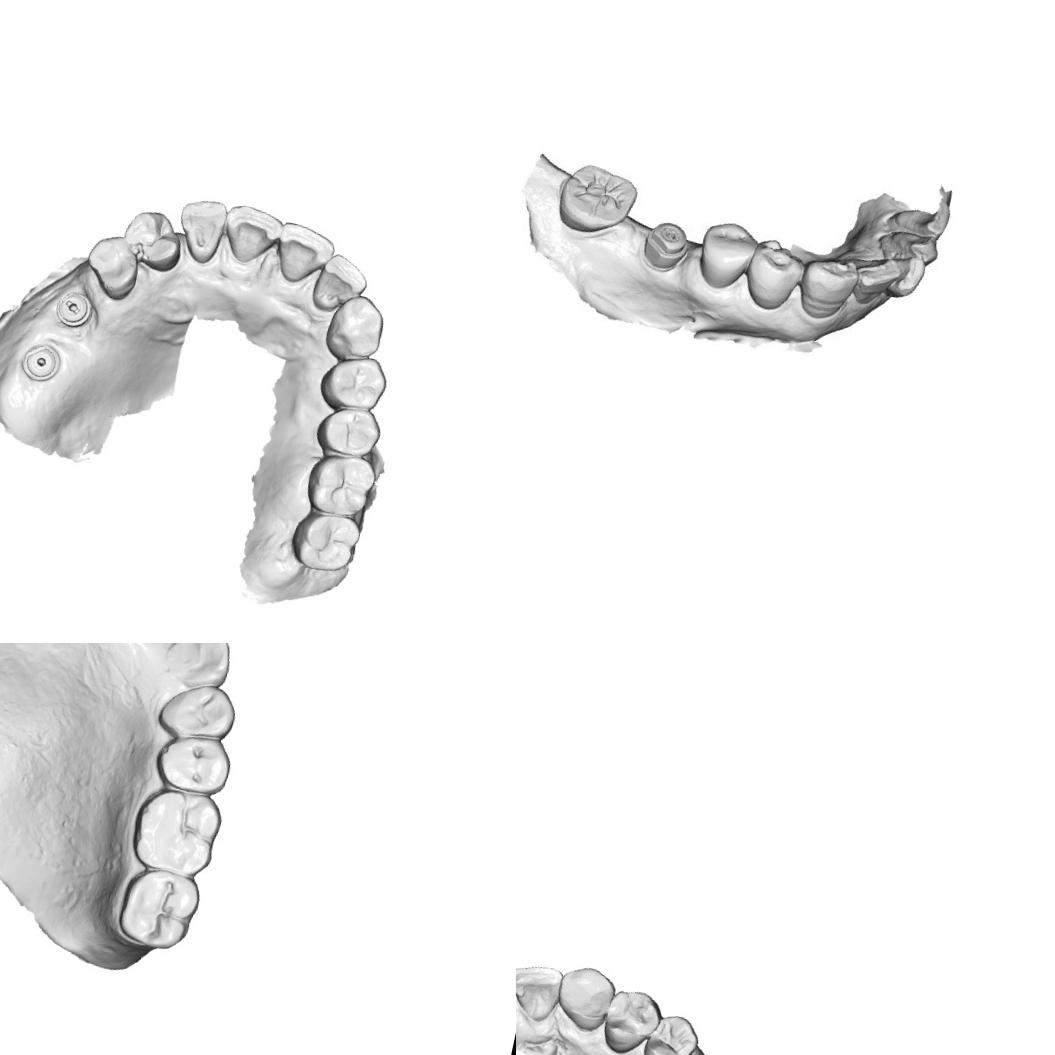canine: (550, 958, 622, 1038), (793, 248, 862, 328), (321, 290, 390, 368), (159, 643, 237, 694)
implant: (18, 340, 64, 386)
implant_minus: (634, 216, 694, 274), (52, 288, 96, 331)
incisor: (270, 219, 338, 290), (218, 200, 285, 269), (308, 250, 372, 318), (170, 194, 230, 266), (847, 244, 904, 308), (516, 957, 566, 1027), (878, 224, 940, 270), (876, 249, 927, 298)
molar: (127, 782, 228, 882), (108, 859, 202, 958), (551, 154, 645, 244), (302, 447, 378, 521), (286, 507, 363, 577)
premolar: (154, 674, 240, 750), (739, 230, 808, 318), (692, 215, 761, 296), (315, 348, 391, 420), (156, 731, 233, 800), (118, 205, 188, 276), (596, 983, 665, 1055), (80, 230, 145, 304), (311, 400, 385, 464), (635, 1007, 704, 1055)
